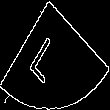L_NE: (35, 26, 75, 84)
